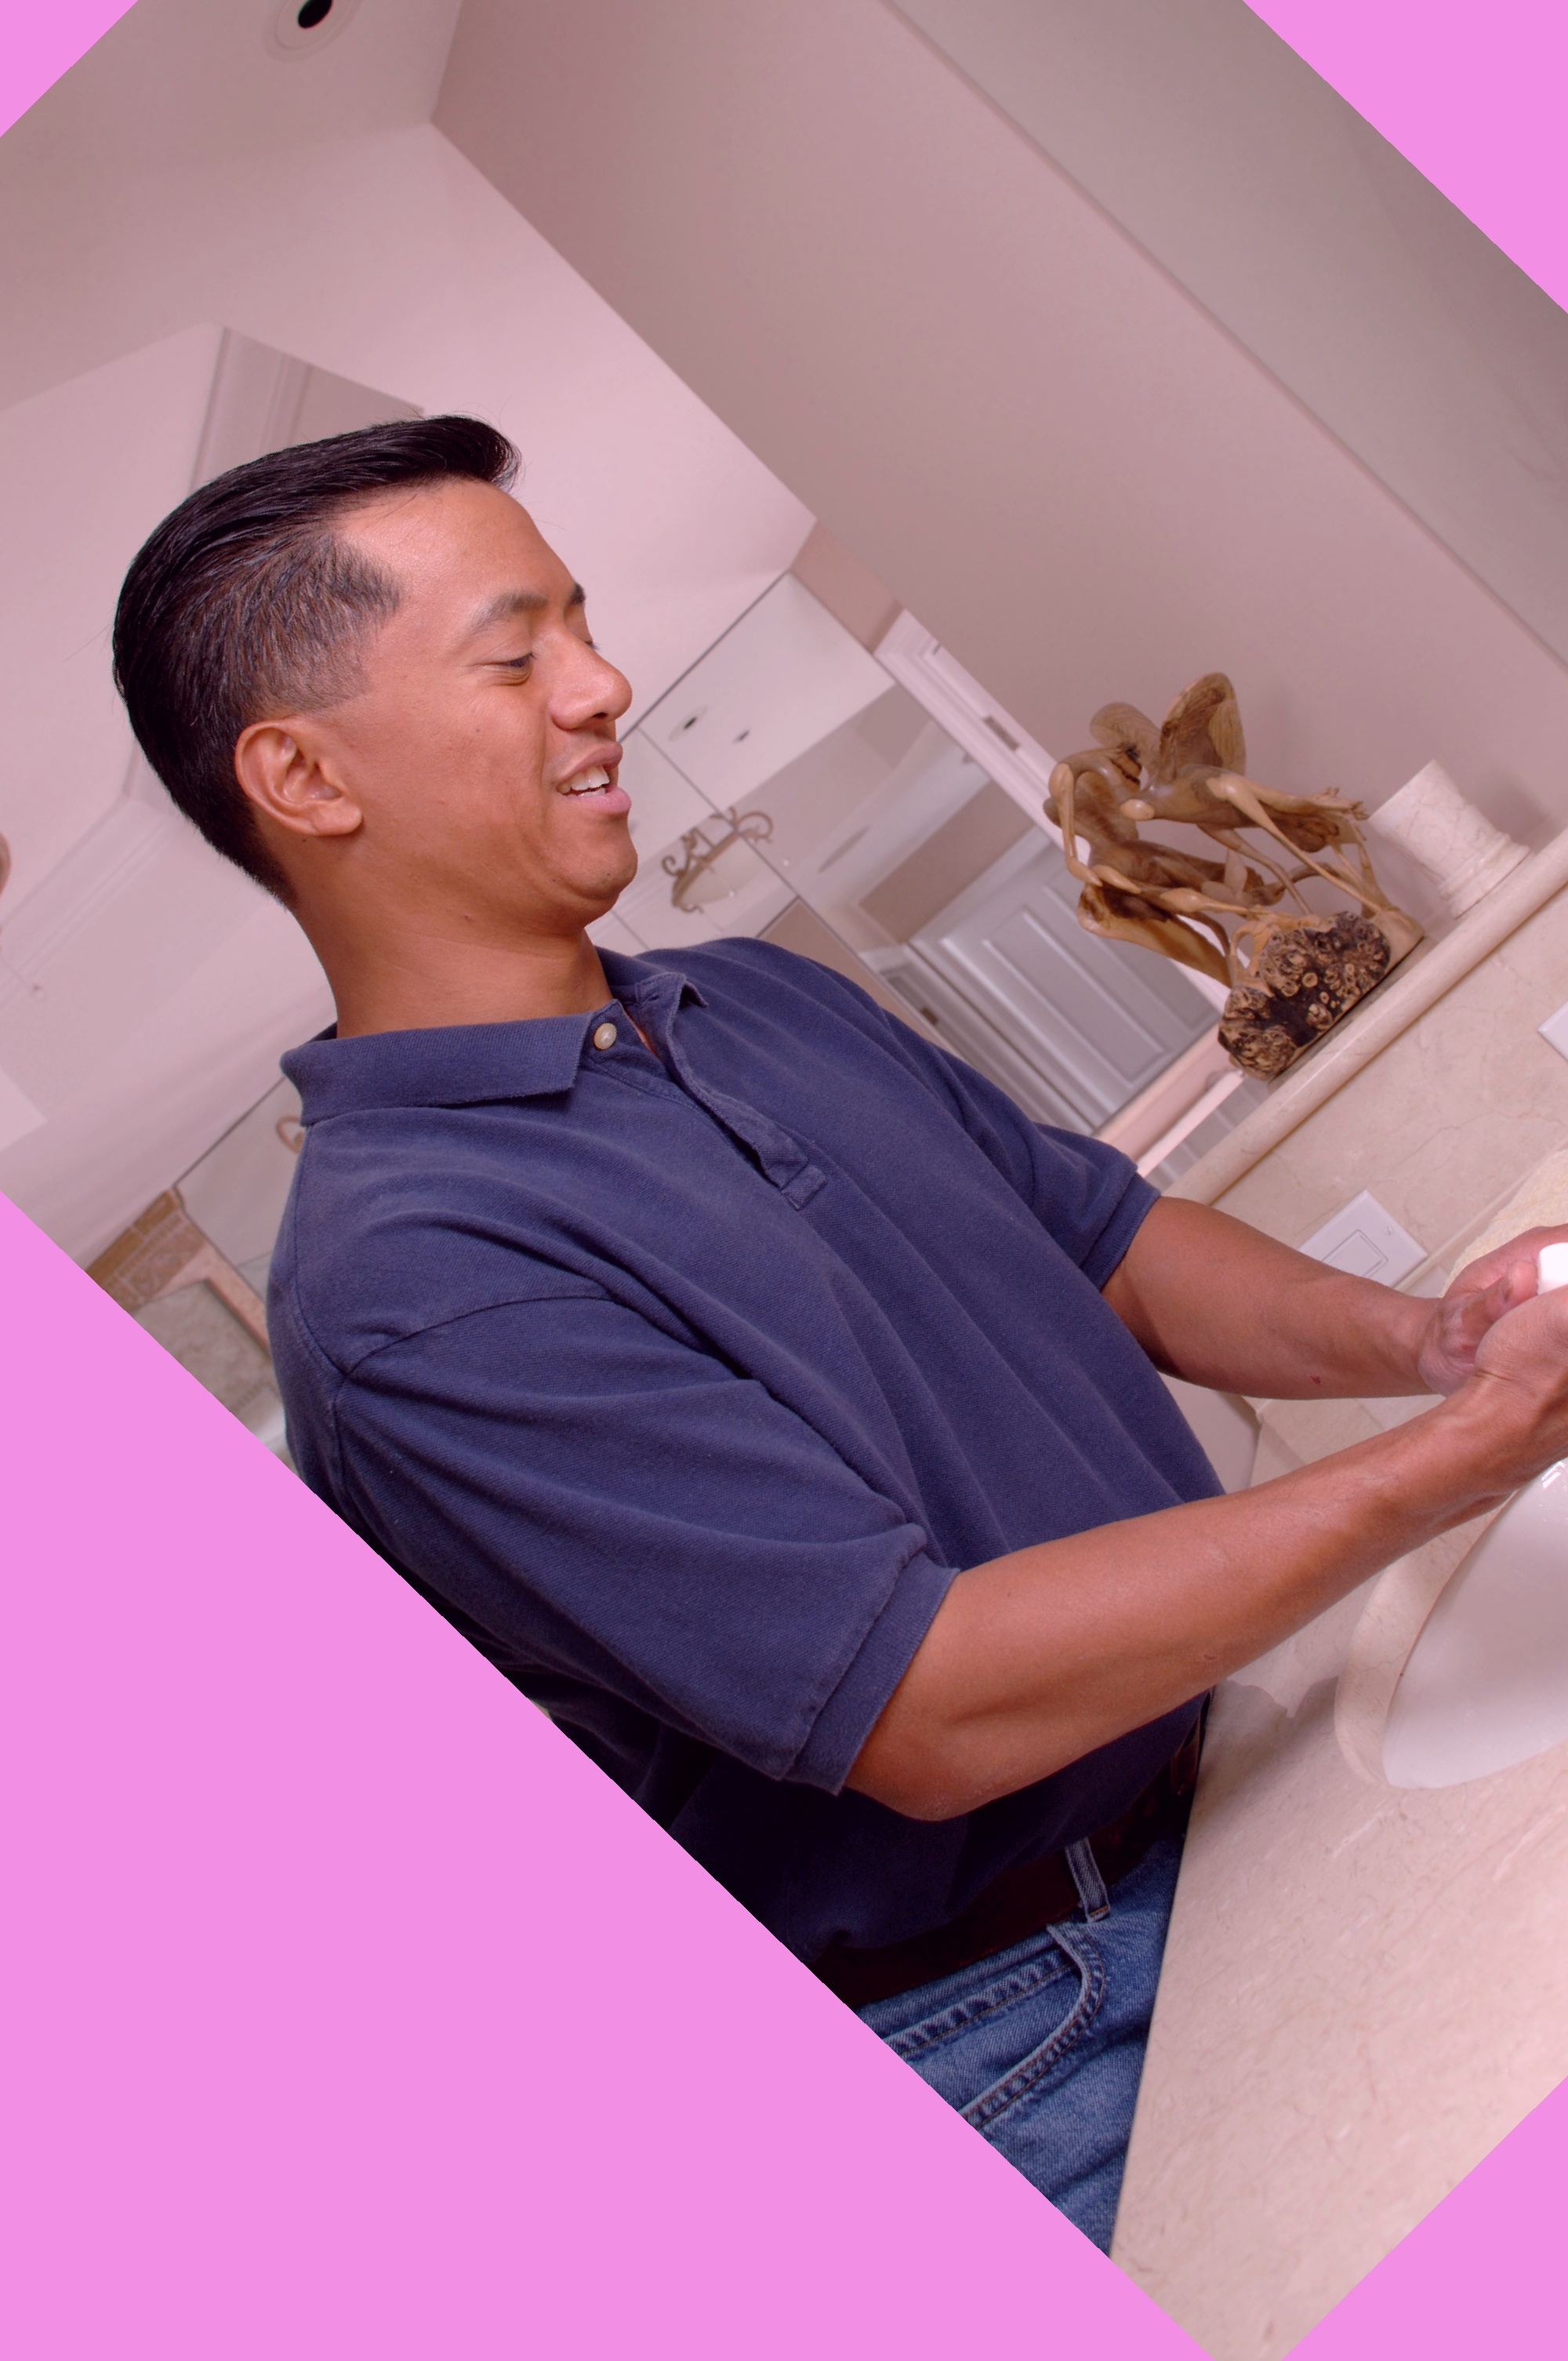washing hand: (1208, 634, 1568, 1607)
